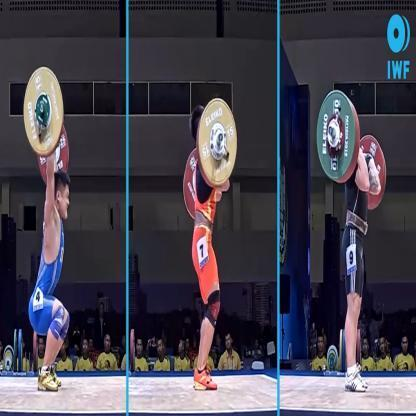barbell: (316, 88, 387, 210), (182, 101, 235, 217), (24, 68, 71, 182)
